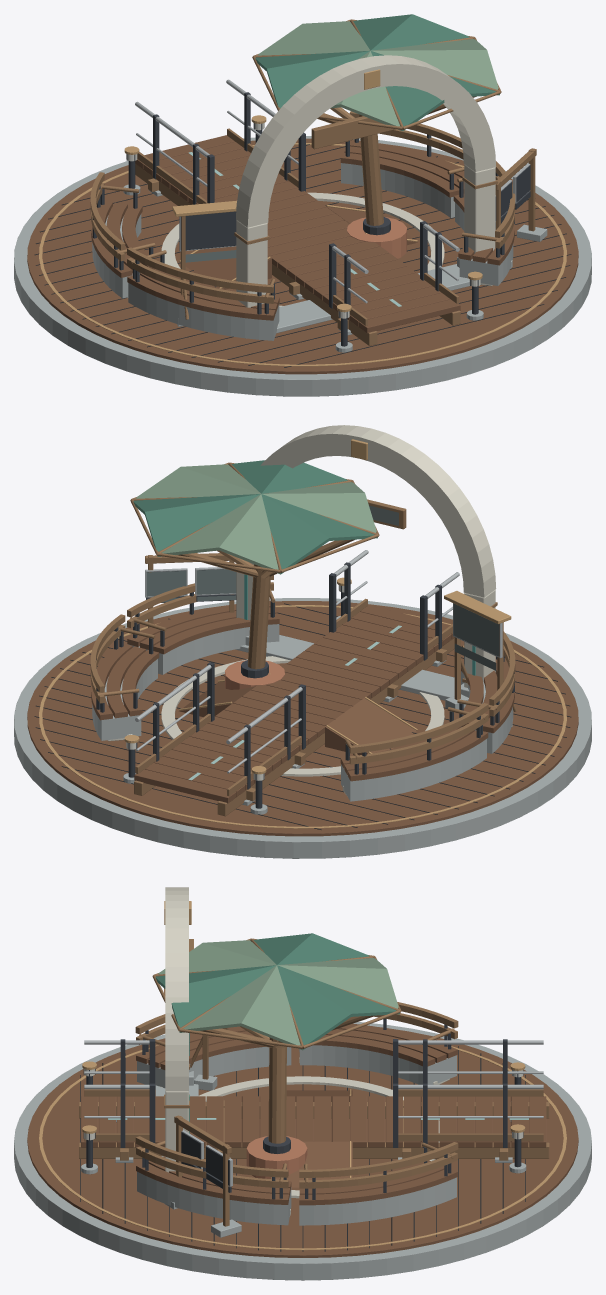
Rendered from fullfilm_v3_scene_block.glb.
3 renders of one model, top to bottom at view 1: azimuth 30°, elevation 25°; view 2: azimuth 150°, elevation 25°; view 3: azimuth 270°, elevation 25°, orthographic.
Parts seen in each view (by area): view 1: Plaza_UpperDeck, Plaza_LowerStoneDisk, Bridge_26DeckBoards, Gateway_ArchRib, Plaza_DeckPlankJoints, Bench_02_StoneBase, Canopy_FoldedLeaf_05, Canopy_FoldedLeaf_02, Canopy_FoldedLeaf_00, Canopy_FoldedLeaf_01, Plaza_InsetOuterBand, Gateway_Jamb.001 (+30 smaller); view 2: Plaza_UpperDeck, Bridge_26DeckBoards, Plaza_LowerStoneDisk, Gateway_ArchRib, Canopy_FoldedLeaf_01, Plaza_DeckPlankJoints, Canopy_FoldedLeaf_02, Canopy_FoldedLeaf_00, Bench_03_StoneBase, Canopy_FoldedLeaf_03, Canopy_FoldedLeaf_05, Bridge_AccessRamp_L (+34 smaller); view 3: Plaza_UpperDeck, Plaza_LowerStoneDisk, Bridge_26DeckBoards, Gateway_ArchRib, Canopy_FoldedLeaf_05, Canopy_FoldedLeaf_00, Bench_00_StoneBase, Bench_01_StoneBase, Bench_03_StoneBase, Canopy_FoldedLeaf_01, Canopy_FoldedLeaf_04, Bridge_LongitudinalBeam_R (+30 smaller).
Part boxes in pixels (left/top/right/bottom): Plaza_UpperDeck: left=27, top=138, right=578, bottom=374; Plaza_LowerStoneDisk: left=14, top=136, right=591, bottom=396; Bridge_26DeckBoards: left=135, top=135, right=460, bottom=333; Gateway_ArchRib: left=236, top=55, right=495, bottom=227; Plaza_DeckPlankJoints: left=34, top=144, right=571, bottom=367; Bench_02_StoneBase: left=128, top=283, right=279, bottom=340; Canopy_FoldedLeaf_05: left=371, top=39, right=498, bottom=89; Canopy_FoldedLeaf_02: left=255, top=50, right=369, bottom=108; Canopy_FoldedLeaf_00: left=353, top=14, right=469, bottom=50; Canopy_FoldedLeaf_01: left=258, top=21, right=369, bottom=55; Plaza_InsetOuterBand: left=39, top=143, right=566, bottom=366; Gateway_Jamb.001: left=464, top=164, right=495, bottom=253; Plaza_UpperDeck: left=27, top=601, right=578, bottom=836; Bridge_26DeckBoards: left=134, top=605, right=454, bottom=803; Plaza_LowerStoneDisk: left=14, top=598, right=591, bottom=858; Gateway_ArchRib: left=260, top=425, right=496, bottom=597; Canopy_FoldedLeaf_01: left=157, top=494, right=280, bottom=574; Plaza_DeckPlankJoints: left=34, top=603, right=571, bottom=829; Canopy_FoldedLeaf_02: left=261, top=494, right=377, bottom=574; Canopy_FoldedLeaf_00: left=133, top=494, right=260, bottom=551; Bench_03_StoneBase: left=341, top=739, right=486, bottom=801; Canopy_FoldedLeaf_03: left=262, top=482, right=376, bottom=532; Canopy_FoldedLeaf_05: left=136, top=464, right=260, bottom=498; Bridge_AccessRamp_L: left=325, top=698, right=417, bottom=755; Plaza_UpperDeck: left=27, top=1027, right=578, bottom=1257; Plaza_LowerStoneDisk: left=14, top=1022, right=591, bottom=1280; Bridge_26DeckBoards: left=81, top=1096, right=546, bottom=1147; Gateway_ArchRib: left=165, top=887, right=188, bottom=1091; Canopy_FoldedLeaf_05: left=180, top=965, right=302, bottom=1050; Canopy_FoldedLeaf_00: left=277, top=965, right=399, bottom=1049; Bench_00_StoneBase: left=299, top=1177, right=456, bottom=1225; Bench_01_StoneBase: left=137, top=1171, right=291, bottom=1225; Bench_03_StoneBase: left=299, top=1045, right=456, bottom=1084; Canopy_FoldedLeaf_01: left=277, top=958, right=398, bottom=1008; Canopy_FoldedLeaf_04: left=155, top=965, right=276, bottom=1032; Bridge_LongitudinalBeam_R: left=79, top=1142, right=549, bottom=1158.
Size of the model in its own units: 7.8 by 3.83 by 7.8.
